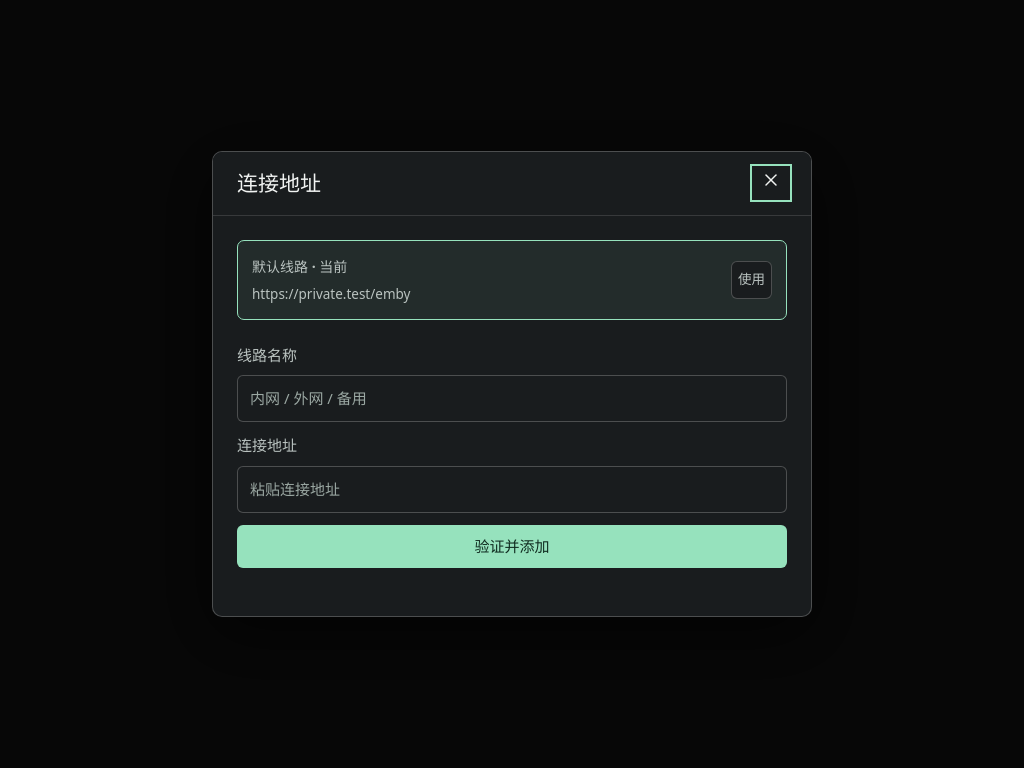
it: adds a verified route without using the returned server name as a visible alias
Step 1. Type "https://backup.private.test" into the field named "线路地址" → (512, 489), box [237,466,787,513]
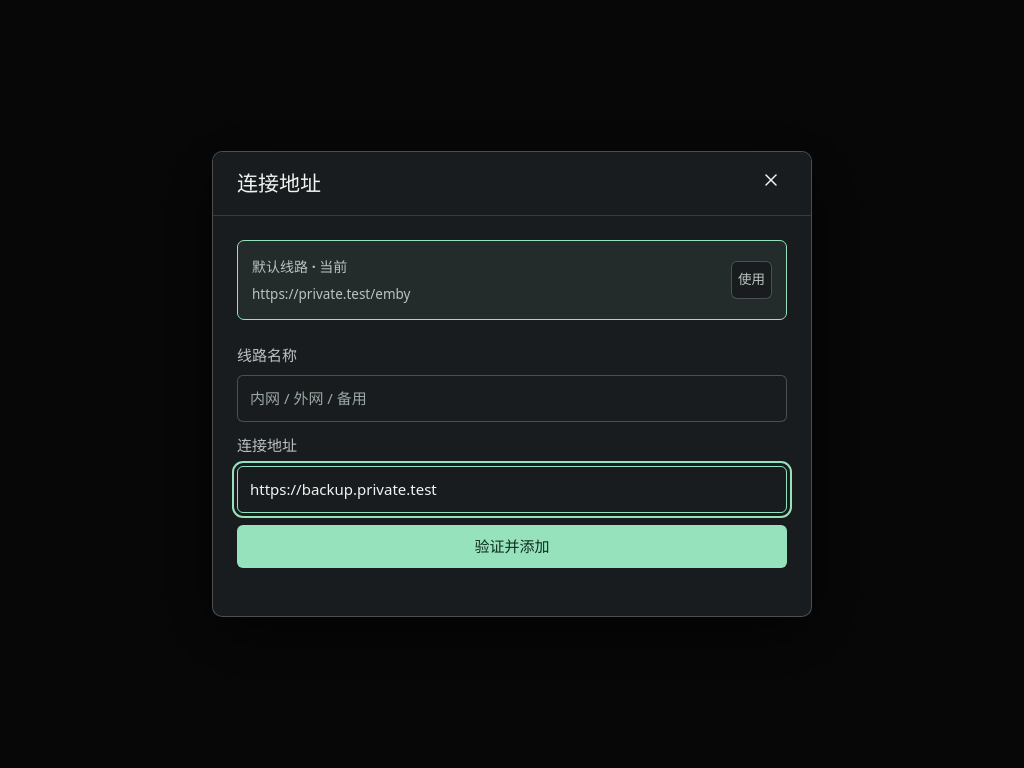
Step 2. Click the button "验证并添加" → (512, 547), box [237,525,787,568]
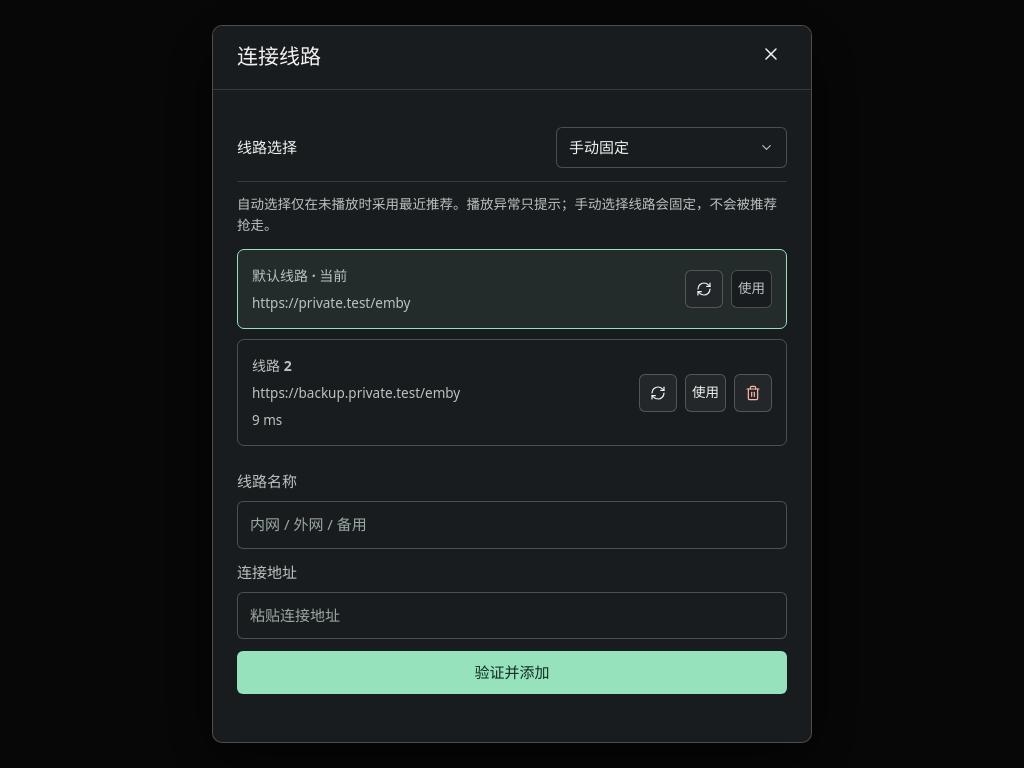
Expected: the text "线路 2" is shown, [252,356,292,375]
Expected: the text "https://backup.private.test/emby" is shown, [252,384,460,402]
